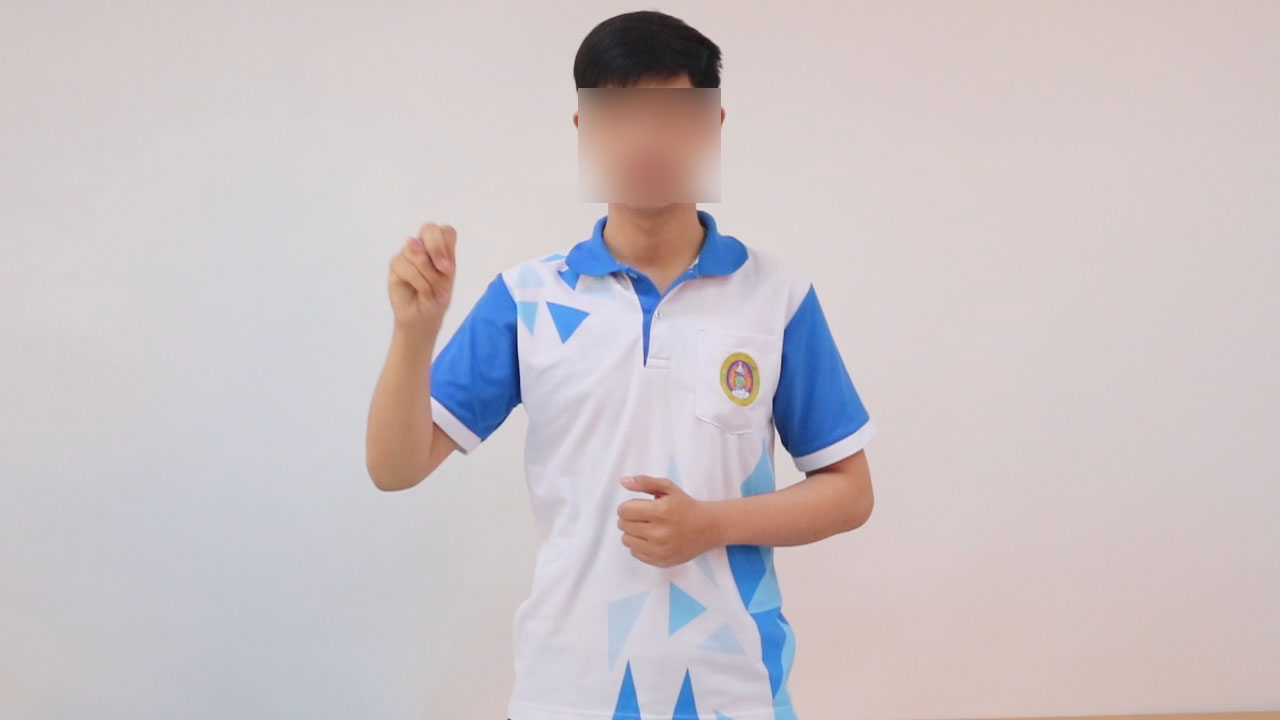nor: (375, 210, 470, 321)
